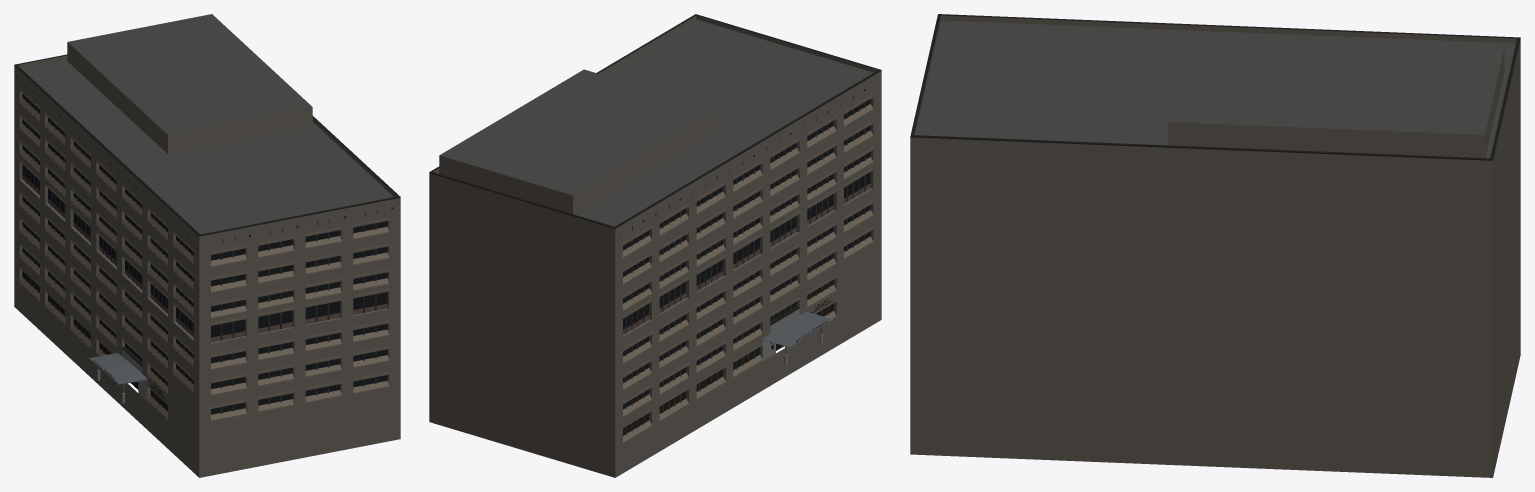
Rendered from engineering-teaching-center-ii-look.glb.
The picture shows the model from 3 angles, left to right: view 1: azimuth 30°, elevation 25°; view 2: azimuth 150°, elevation 25°; view 3: azimuth 270°, elevation 25°; orthographic projection. The views are drawn at different scales.
Parts seen in each view (by area): view 1: n_wall_brick, n_roof, n_wall_brick_soldier, n_glass_window, n_metal_mullion_bronze, n_wall_brick_soldier_course, n_metal_flashing_dark, n_panel_red, n_metal_canopy_steel, n_blind_grey; view 2: n_wall_brick, n_roof, n_wall_brick_soldier, n_glass_window, n_metal_mullion_bronze, n_wall_brick_soldier_course, n_metal_flashing_dark, n_metal_canopy_steel, n_blind_grey, n_panel_red; view 3: n_wall_brick, n_roof, n_metal_flashing_dark.
Boxes of the visible parts, x1,y1,x2,y2 form: n_wall_brick: (14, 42, 400, 477); n_roof: (21, 14, 393, 234); n_wall_brick_soldier: (19, 88, 388, 420); n_glass_window: (22, 94, 387, 414); n_metal_mullion_bronze: (22, 94, 387, 414); n_wall_brick_soldier_course: (19, 90, 388, 408); n_metal_flashing_dark: (14, 54, 400, 366); n_panel_red: (22, 175, 387, 341); n_metal_canopy_steel: (88, 353, 147, 393); n_blind_grey: (22, 271, 167, 410); n_wall_brick: (429, 15, 881, 477); n_roof: (437, 19, 873, 226); n_wall_brick_soldier: (623, 94, 873, 442); n_glass_window: (623, 99, 870, 408); n_metal_mullion_bronze: (623, 102, 870, 435); n_wall_brick_soldier_course: (623, 96, 873, 404); n_metal_flashing_dark: (429, 14, 881, 325); n_metal_canopy_steel: (763, 311, 833, 355); n_blind_grey: (623, 280, 833, 435); n_panel_red: (623, 183, 870, 334); n_wall_brick: (910, 15, 1520, 477); n_roof: (915, 20, 1515, 158); n_metal_flashing_dark: (910, 14, 1520, 160).
Bounding box in the file's own units: 40.81 × 41.15 × 67.17.
